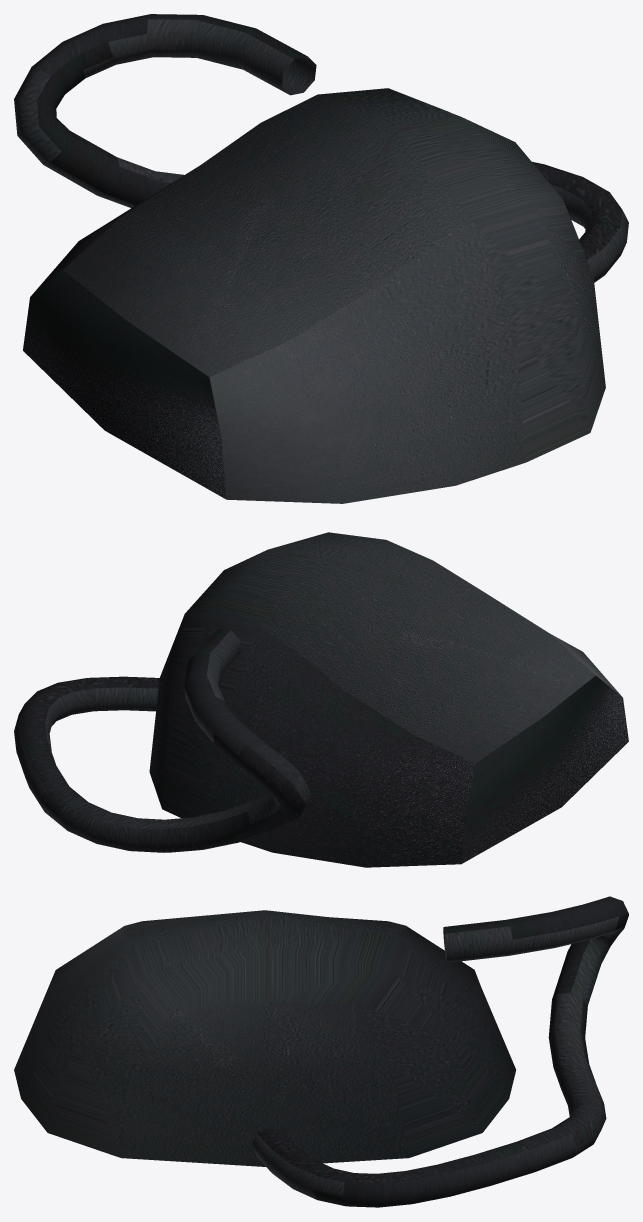
File: Phone.fbx
3 views of the same model, one above another, from view 1: azimuth 30°, elevation 25°; view 2: azimuth 150°, elevation 25°; view 3: azimuth 270°, elevation 25° (orthographic). The views are drawn at different scales.
Parts seen in each view (by area): view 1: Cube.058, BézierCurve.004; view 2: Cube.058, BézierCurve.004; view 3: Cube.058, BézierCurve.004.
Part boxes in pixels (x1=…): Cube.058: x1=23, y1=88, x2=605, y2=503; BézierCurve.004: x1=14, y1=14, x2=628, y2=282; Cube.058: x1=149, y1=532, x2=628, y2=867; BézierCurve.004: x1=14, y1=628, x2=311, y2=852; Cube.058: x1=14, y1=910, x2=515, y2=1166; BézierCurve.004: x1=251, y1=896, x2=628, y2=1207.
Bounding box in the file's own units: 0.7984 × 0.8763 × 0.3055.
